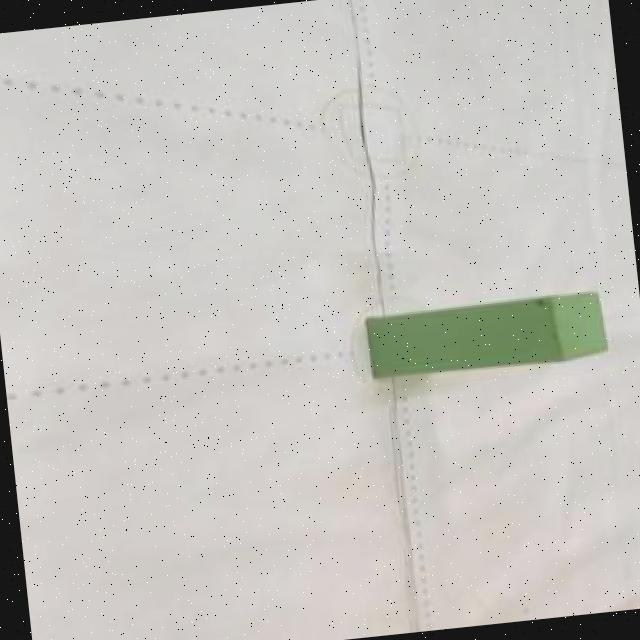greenbox: (367, 290, 609, 380)
